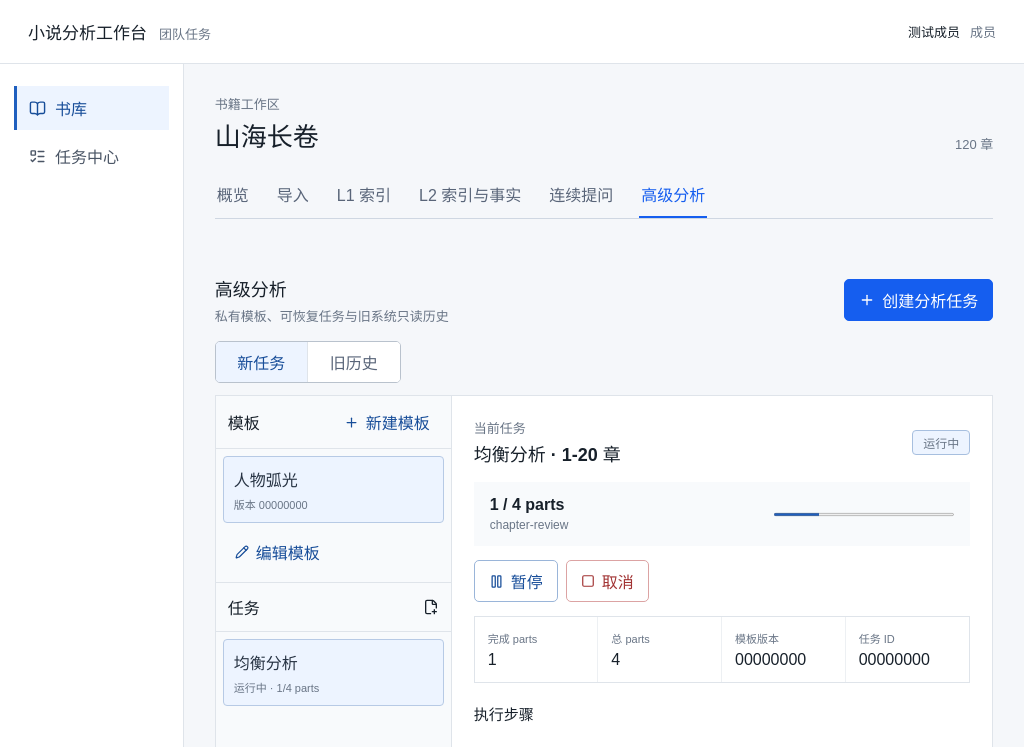
Test: book-scoped advanced analysis workspace › reconciles a lost pause response and retries with one stable request key
Click the button "暂停": (516, 581) 474,560 -> 558,602
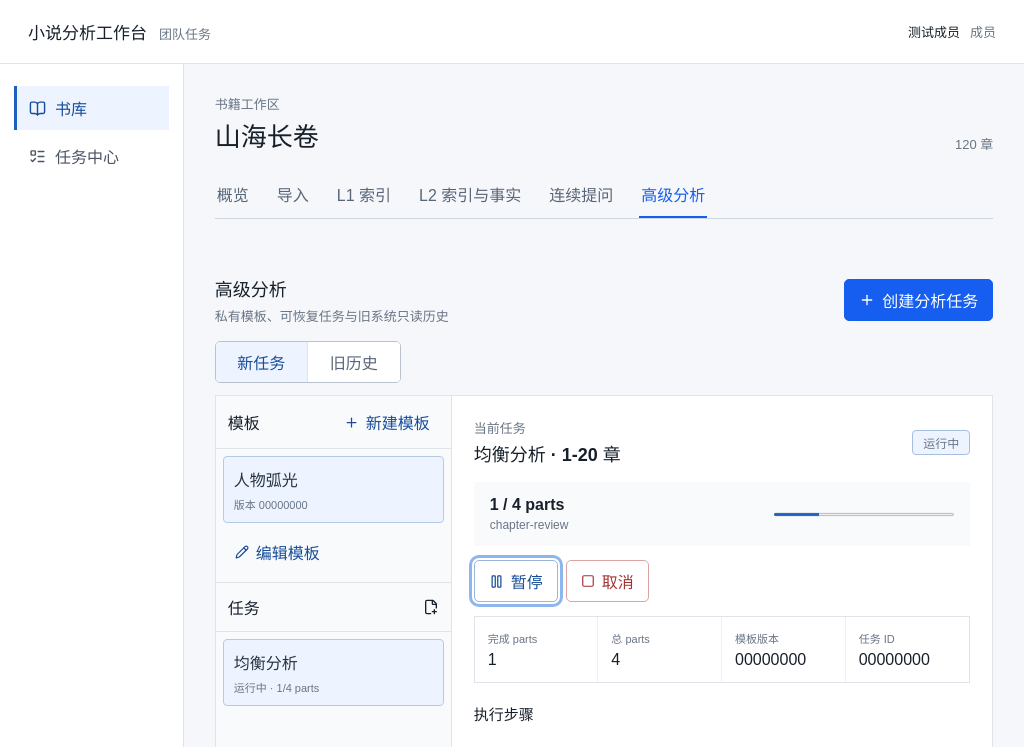
Click the button "暂停": (516, 581) 474,560 -> 558,602
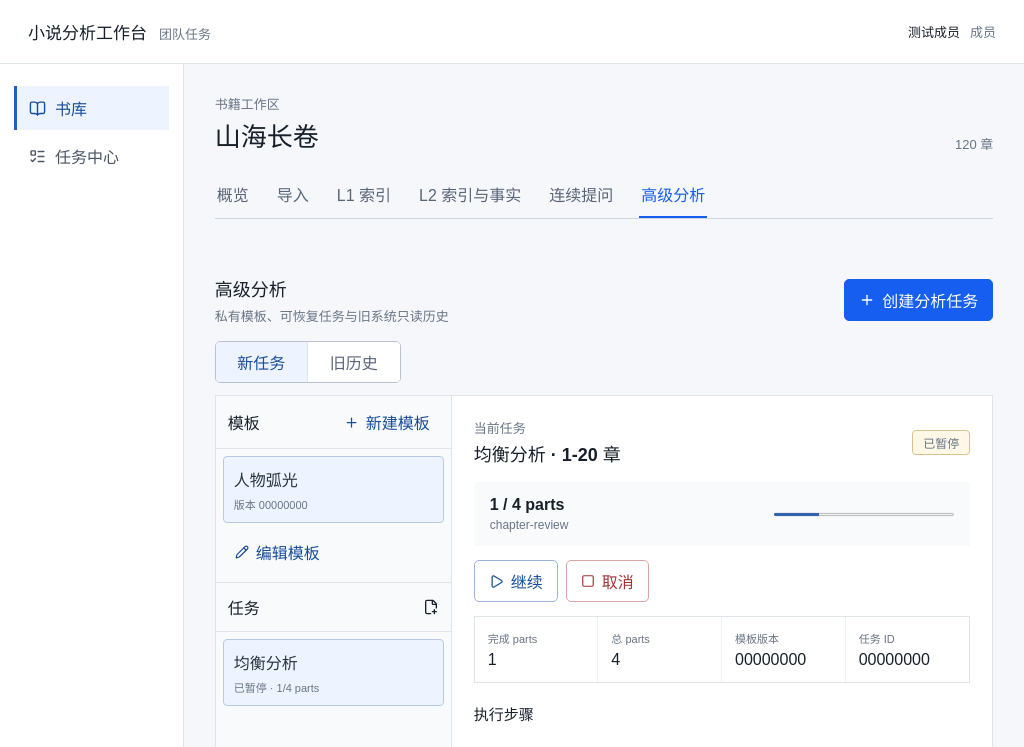
Now the button "继续" is shown, box 474,560 -> 558,602
